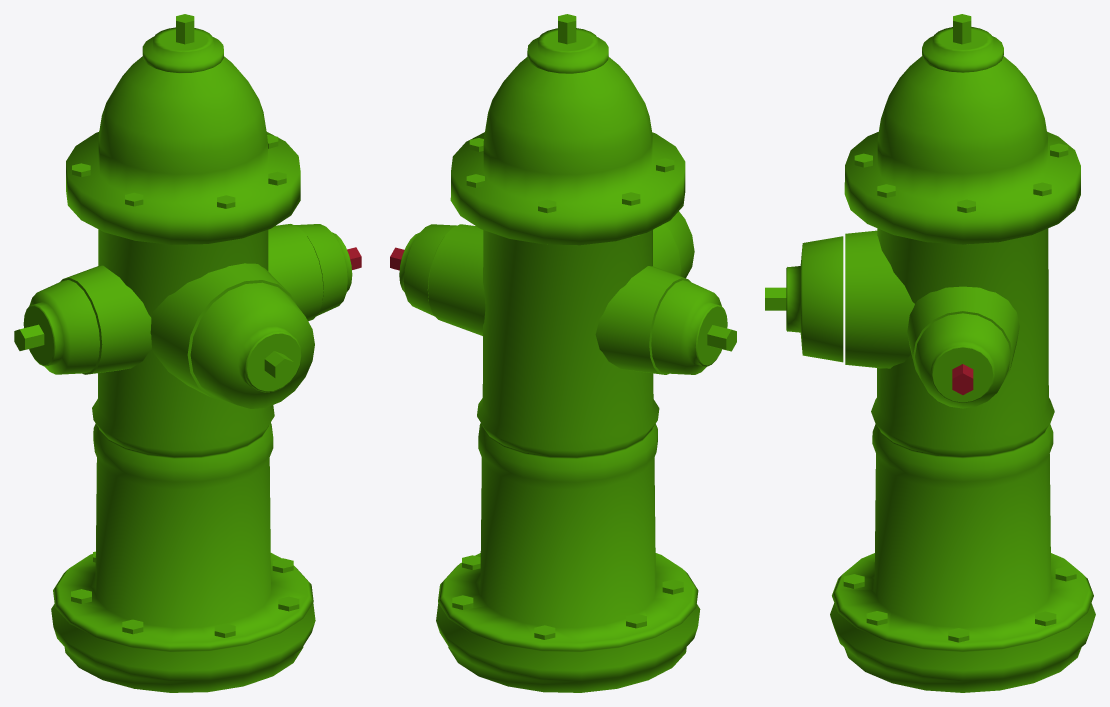
The model's file is fire_hydrant_weird.fbx.
The picture shows the model from 3 angles, left to right: view 1: azimuth 30°, elevation 25°; view 2: azimuth 150°, elevation 25°; view 3: azimuth 270°, elevation 25°; orthographic projection.
Visible parts, largest first — view 1: pCylinder4; view 2: pCylinder4; view 3: pCylinder4.
Boxes of the visible parts, x1,y1,x2,y2 form: pCylinder4: [14, 14, 361, 692]; pCylinder4: [390, 14, 736, 692]; pCylinder4: [765, 14, 1095, 692].
Size of the model in its own units: 3.22 by 5.71 by 2.74.
